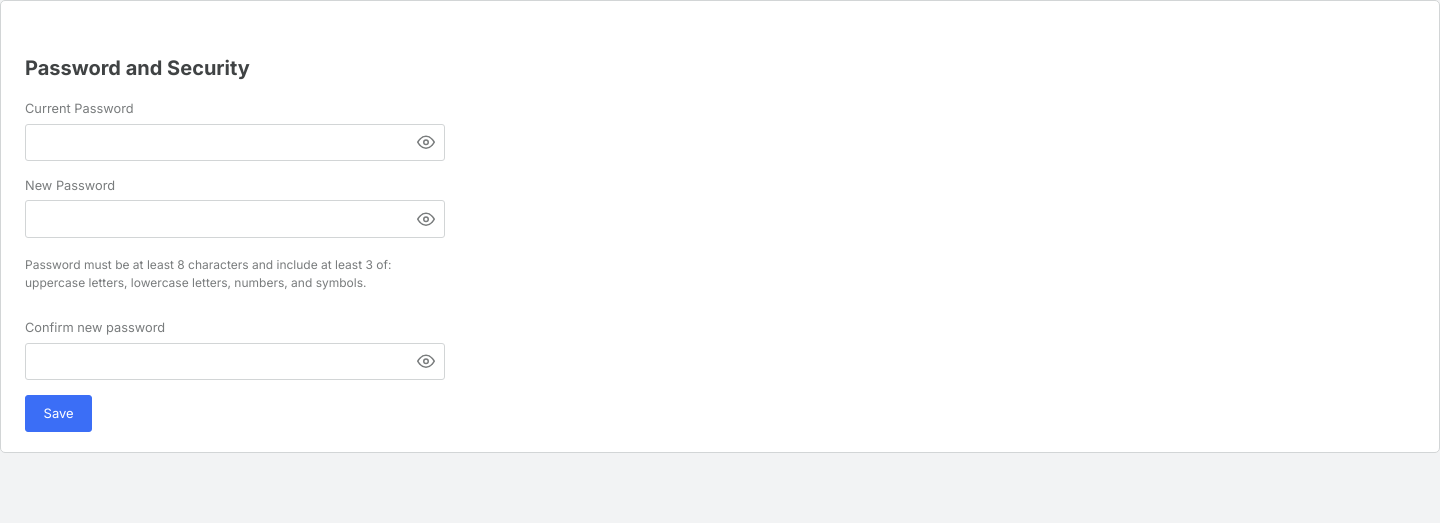
Test: PasswordSecurityPage › a server error changing the password (e.g. wrong current password) is shown inline
Expected: the heading "Password and Security" is shown, [25,56,250,80]
Type "wrong password" into the password field labelled "Current Password".
click(235, 143); type("wrong password")  # box [25,124,445,161]
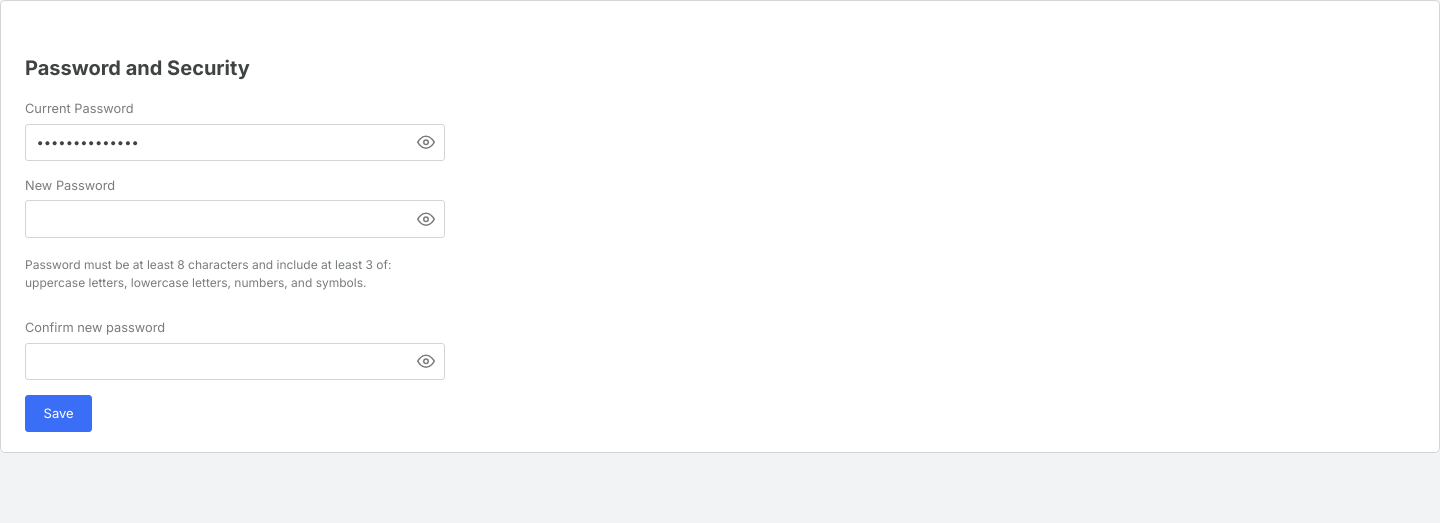
Type "Str0ng Passw0rd!" into the password field labelled "New Password".
click(235, 219); type("Str0ng Passw0rd!")  # box [25,200,445,238]
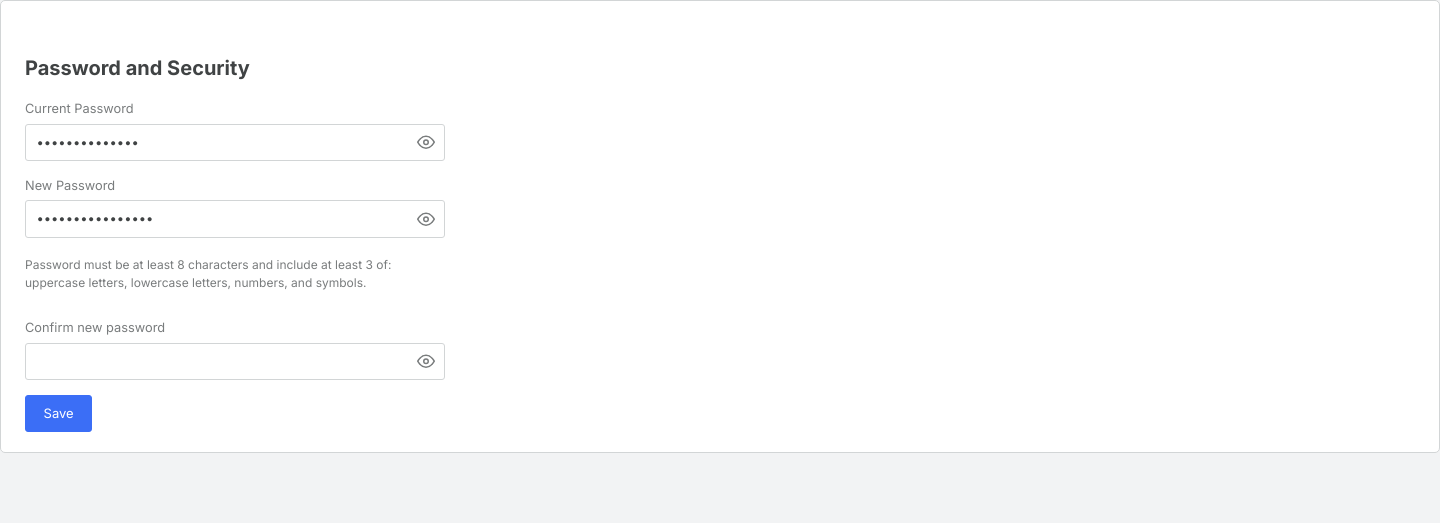
Type "Str0ng Passw0rd!" into the password field labelled "Confirm new password".
click(235, 361); type("Str0ng Passw0rd!")  # box [25,343,445,380]
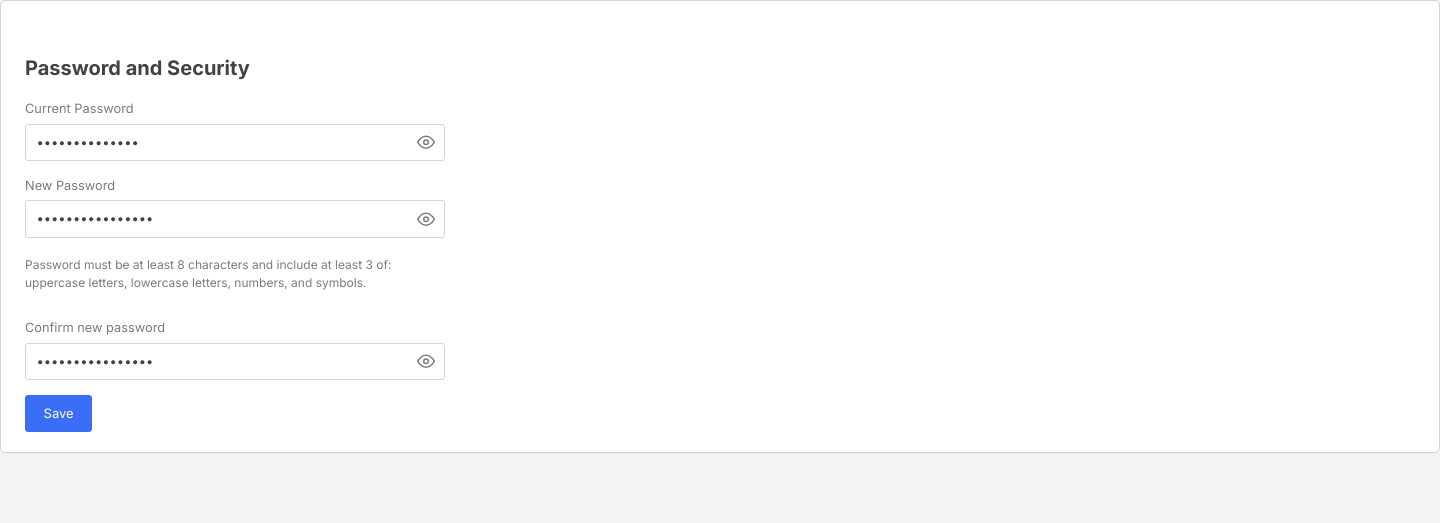
Click the button "Save".
click(59, 413)  # box [25,395,92,432]
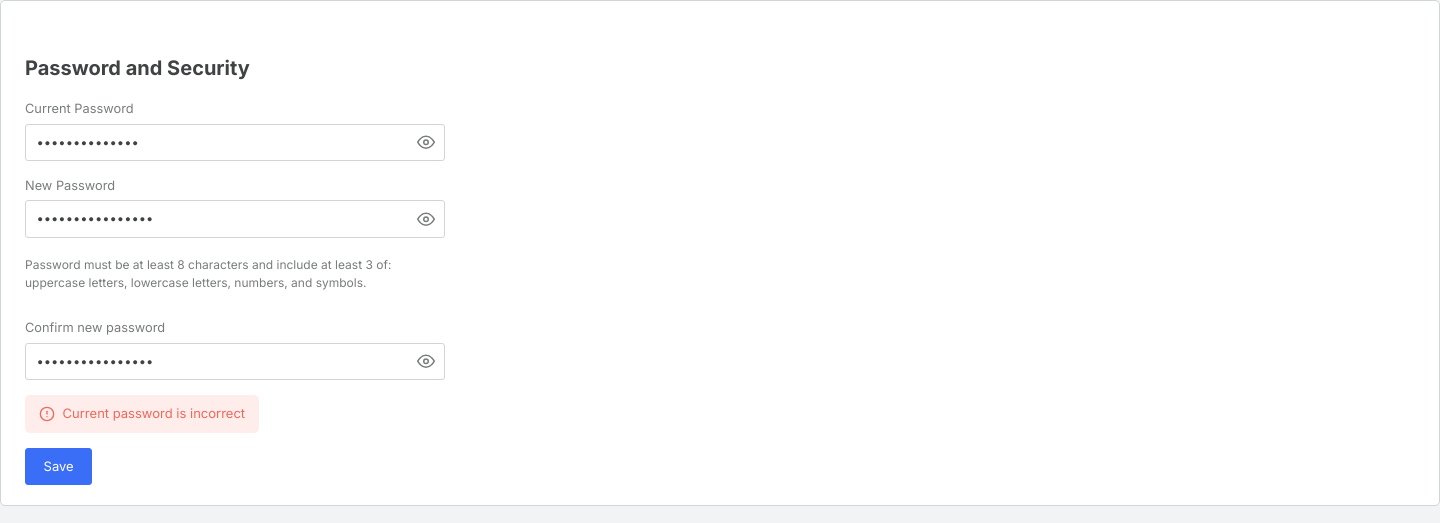
Expected: the text "Current password is incorrect" is shown, [25,395,259,433]
